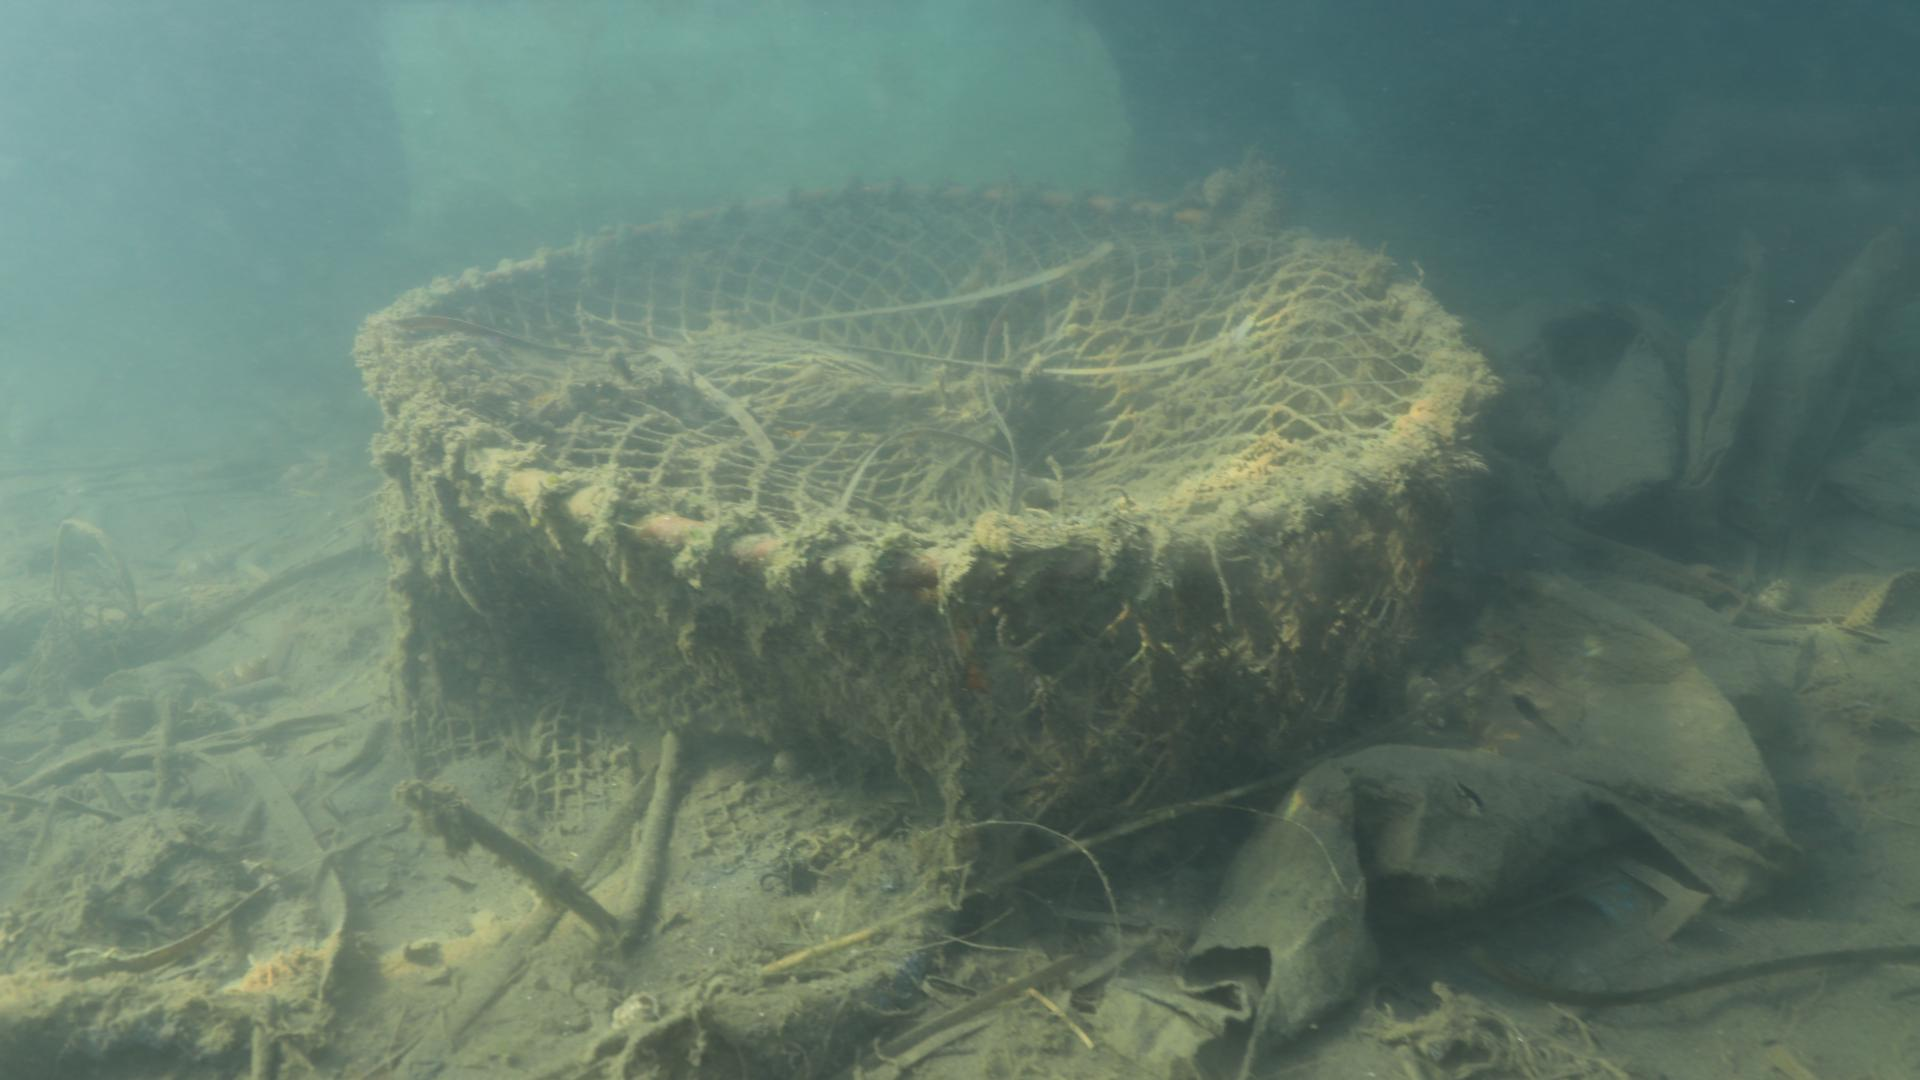circular fish trap: (351, 175, 1484, 843)
